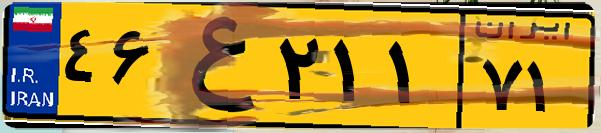1: (385, 28, 445, 110), (330, 28, 385, 110), (525, 38, 570, 115)
2: (270, 28, 330, 110)
4: (57, 26, 110, 100)
6: (110, 28, 158, 98)
7: (475, 38, 525, 113)
ع: (158, 12, 270, 120)
